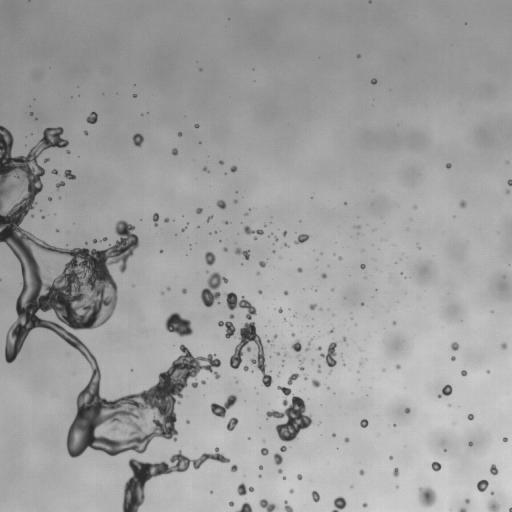droplet: (266, 373, 313, 441), (165, 312, 193, 337), (210, 394, 237, 417), (418, 486, 436, 506), (244, 225, 263, 239), (259, 499, 277, 511), (332, 496, 346, 511), (437, 385, 452, 398), (237, 483, 253, 495), (235, 248, 249, 260), (204, 251, 215, 265), (227, 417, 238, 431), (295, 234, 310, 244), (132, 133, 143, 146), (477, 479, 488, 491), (291, 339, 301, 352), (86, 112, 97, 123), (64, 169, 76, 179), (488, 501, 499, 511), (273, 453, 282, 465), (431, 461, 441, 471), (216, 200, 226, 209), (284, 501, 293, 511), (490, 464, 498, 475), (311, 491, 319, 502), (311, 378, 320, 387), (56, 181, 64, 189), (360, 419, 368, 427), (392, 467, 399, 476), (451, 342, 458, 350), (171, 148, 178, 155), (230, 165, 237, 172), (459, 200, 466, 207), (309, 303, 316, 310), (261, 448, 268, 455), (230, 464, 237, 471), (259, 261, 266, 267), (196, 208, 202, 214), (461, 370, 467, 376), (191, 381, 197, 387), (467, 414, 473, 420), (99, 237, 106, 242), (501, 342, 506, 349), (371, 78, 376, 84), (52, 169, 58, 174), (207, 215, 212, 221), (181, 288, 186, 294), (280, 446, 286, 451), (446, 163, 451, 168), (203, 167, 208, 172), (297, 267, 302, 272), (321, 273, 326, 278), (243, 366, 248, 371), (405, 408, 410, 413), (359, 470, 364, 475), (297, 474, 302, 479), (229, 501, 234, 506), (507, 179, 511, 185), (273, 334, 277, 340), (164, 217, 168, 222), (360, 264, 365, 268), (284, 290, 288, 295), (278, 308, 282, 313), (229, 314, 234, 318), (316, 346, 321, 350), (396, 364, 400, 369), (303, 374, 307, 379), (502, 437, 507, 441), (344, 438, 349, 442), (362, 503, 367, 507), (354, 225, 360, 228), (44, 158, 48, 162), (219, 160, 223, 164), (182, 227, 186, 231), (93, 239, 97, 243), (223, 247, 227, 251), (338, 256, 342, 260), (451, 356, 455, 360), (358, 362, 362, 366), (201, 380, 205, 384), (278, 469, 282, 473), (289, 489, 293, 493), (465, 499, 469, 503), (343, 336, 346, 341), (317, 368, 320, 373), (29, 112, 33, 115), (66, 150, 70, 153), (224, 221, 228, 224), (283, 231, 286, 235), (284, 243, 288, 246), (259, 290, 262, 294), (291, 333, 295, 336), (284, 351, 287, 355), (468, 442, 472, 445), (259, 465, 262, 469), (357, 55, 360, 58), (133, 94, 136, 97), (195, 124, 198, 127), (84, 131, 87, 134), (178, 133, 181, 136), (506, 190, 509, 193), (48, 197, 51, 200), (167, 287, 170, 290), (276, 352, 279, 355), (311, 359, 314, 362), (486, 370, 489, 373), (277, 373, 280, 376), (389, 456, 392, 459), (490, 491, 493, 494), (234, 199, 236, 203), (509, 507, 511, 511), (275, 237, 277, 240), (393, 321, 395, 324), (186, 420, 189, 422), (332, 434, 335, 436), (283, 476, 285, 479), (369, 0, 371, 2), (35, 118, 37, 120), (414, 206, 416, 208), (245, 212, 247, 214), (31, 215, 33, 217), (418, 246, 420, 248), (160, 250, 162, 252), (361, 303, 363, 305), (284, 318, 286, 320), (318, 422, 320, 424)
ligament: (0, 125, 220, 457), (122, 448, 230, 511), (218, 320, 272, 387), (201, 272, 227, 307), (224, 292, 257, 319), (320, 342, 338, 373), (236, 502, 252, 511), (305, 337, 313, 351), (152, 213, 159, 226), (299, 359, 304, 370), (267, 340, 273, 346), (328, 329, 333, 334), (458, 508, 466, 511)
